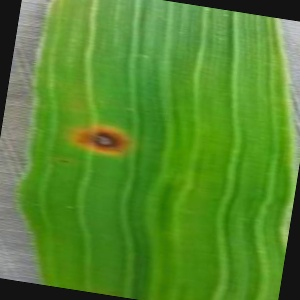Bacterial_Leaf_Blight: (66, 121, 134, 158), (54, 157, 73, 168)
